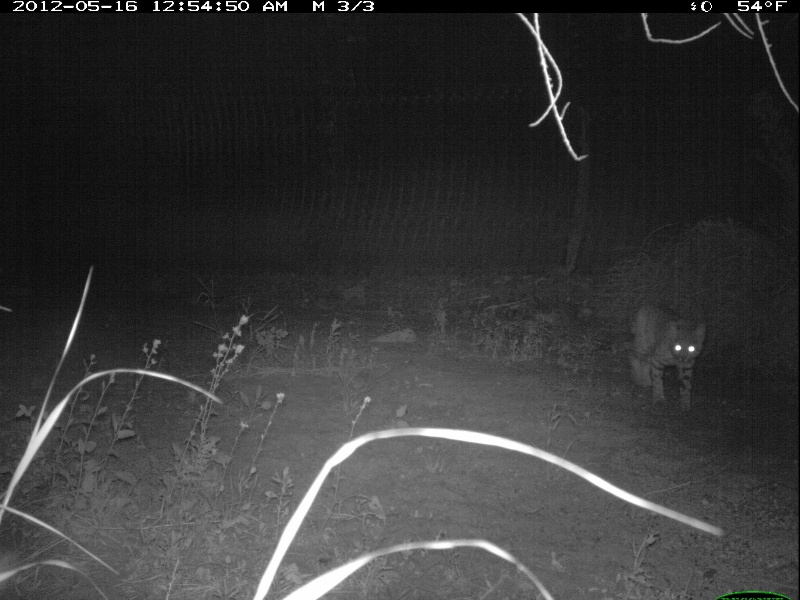cat: (618, 303, 708, 406)
